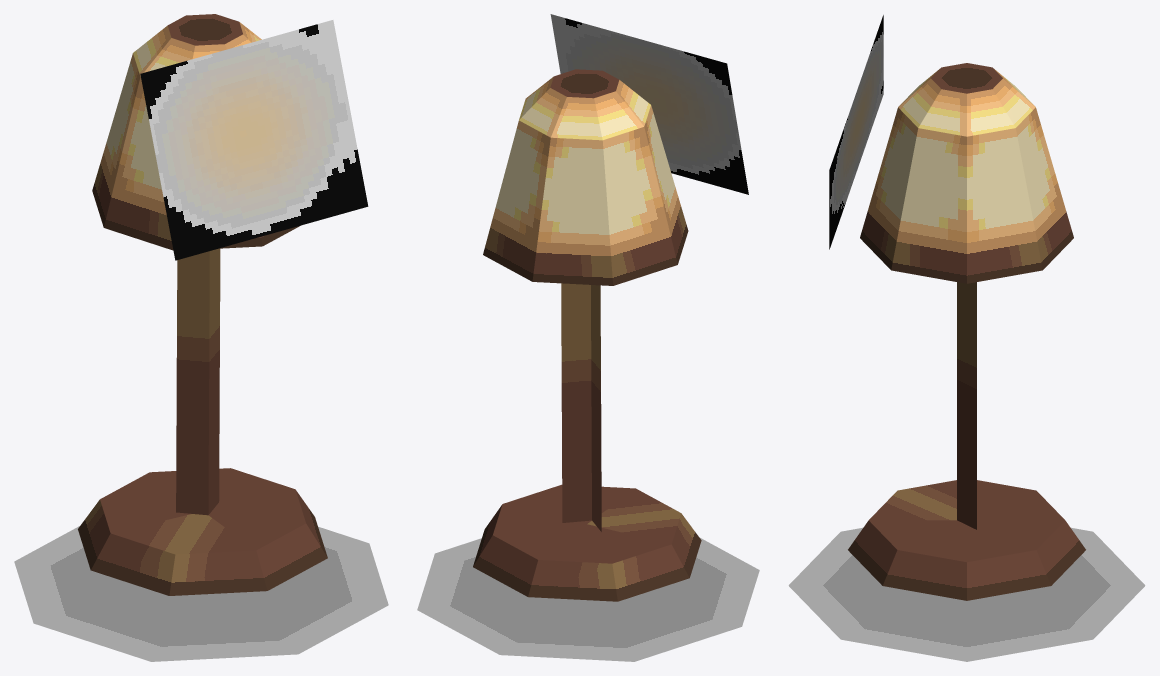
The picture shows the model from 3 angles, left to right: view 1: azimuth 30°, elevation 25°; view 2: azimuth 150°, elevation 25°; view 3: azimuth 270°, elevation 25°; orthographic projection. The views are drawn at different scales.
Parts seen in each view (by area): view 1: polygon1, polygon2, polygon0; view 2: polygon1, polygon0, polygon2; view 3: polygon1, polygon0, polygon2.
Boxes of the visible parts, x1,y1,x2,y2 form: polygon1: (78,14,327,595); polygon2: (140,20,368,260); polygon0: (14,526,388,661); polygon1: (473,69,701,601); polygon0: (417,537,759,661); polygon2: (550,14,748,194); polygon1: (848,63,1085,600); polygon0: (788,527,1145,661); polygon2: (829,15,883,249).
Size of the model in its own units: 2.43 by 3.98 by 2.43.
